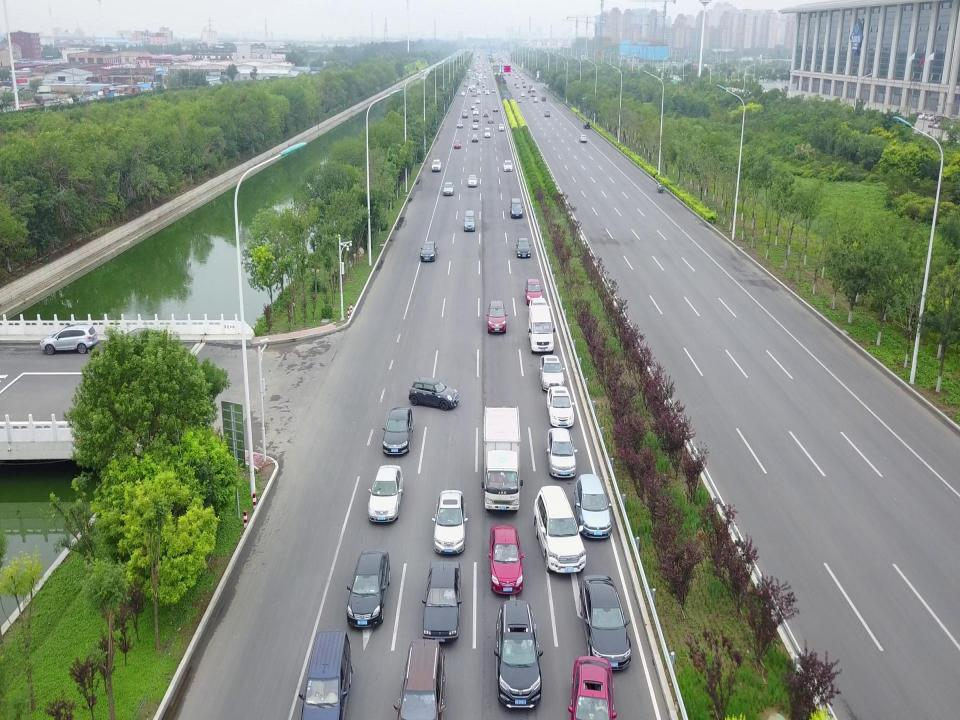car: (493, 599, 543, 709), (579, 574, 631, 671), (533, 484, 586, 572), (393, 638, 446, 720), (346, 547, 390, 627), (423, 560, 463, 642), (567, 656, 617, 720), (488, 522, 525, 594), (574, 473, 612, 540), (432, 488, 467, 554), (368, 465, 404, 522), (39, 323, 99, 355), (408, 377, 458, 411), (546, 426, 578, 479), (109, 327, 167, 356), (381, 407, 414, 456), (547, 385, 575, 428), (538, 355, 566, 393), (486, 301, 508, 333), (528, 296, 550, 326), (525, 278, 543, 304), (420, 241, 438, 261), (516, 237, 532, 258), (510, 198, 524, 217), (442, 182, 454, 196), (431, 158, 441, 172), (503, 159, 513, 172), (468, 174, 477, 187), (453, 139, 461, 149), (456, 120, 464, 129), (579, 134, 587, 143), (472, 121, 479, 129), (583, 121, 590, 129), (472, 133, 478, 142), (483, 109, 489, 118), (488, 115, 494, 124), (470, 101, 476, 110), (472, 108, 478, 116), (544, 109, 550, 117), (498, 124, 504, 131), (492, 105, 498, 112), (472, 115, 478, 121), (475, 98, 480, 103)
truck: (482, 405, 522, 513), (37, 86, 51, 94)
van: (298, 631, 353, 719), (527, 304, 555, 352), (464, 211, 476, 231), (483, 127, 491, 139), (462, 109, 468, 118)
